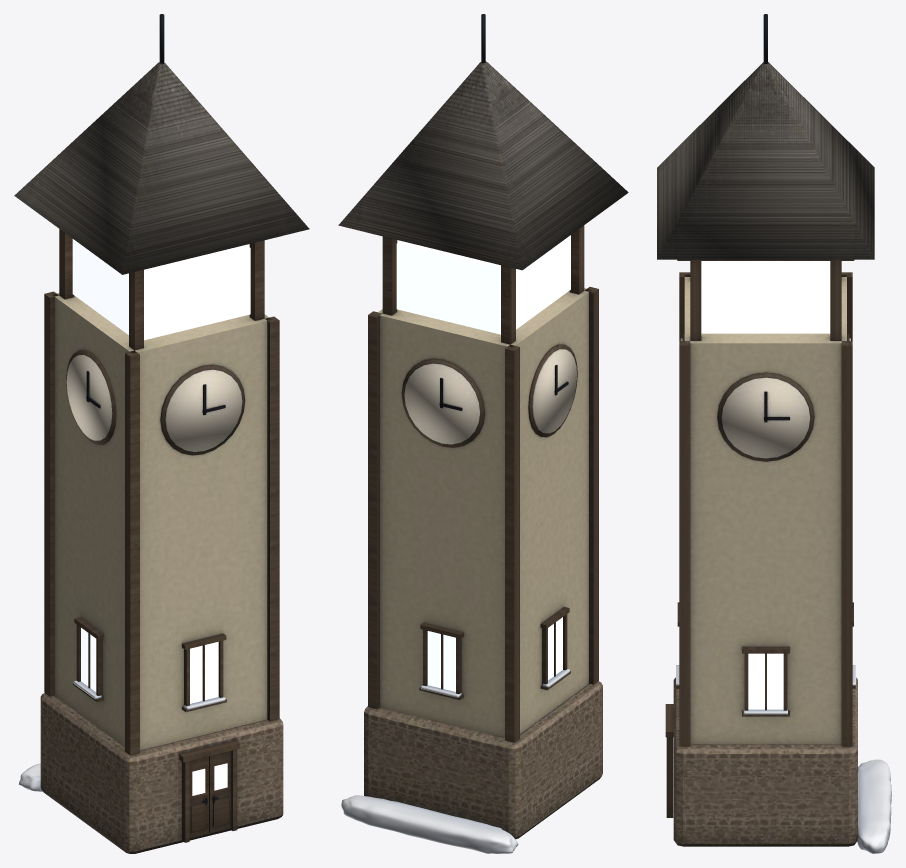
Rendered from solitude_clock_tower.glb.
The picture shows the model from 3 angles, left to right: view 1: azimuth 30°, elevation 25°; view 2: azimuth 150°, elevation 25°; view 3: azimuth 270°, elevation 25°; orthographic projection. The views are drawn at different scales.
Visible parts, largest first — view 1: solitude_clock_tower, solitude_clock_tower_lit, solitude_clock_tower_snow; view 2: solitude_clock_tower, solitude_clock_tower_lit, solitude_clock_tower_snow; view 3: solitude_clock_tower, solitude_clock_tower_lit, solitude_clock_tower_snow.
Boxes of the visible parts, bbox=[...] form: solitude_clock_tower: bbox=[14, 14, 309, 853]; solitude_clock_tower_lit: bbox=[72, 239, 250, 795]; solitude_clock_tower_snow: bbox=[18, 680, 225, 791]; solitude_clock_tower: bbox=[338, 14, 628, 839]; solitude_clock_tower_lit: bbox=[396, 235, 570, 691]; solitude_clock_tower_snow: bbox=[341, 669, 570, 853]; solitude_clock_tower: bbox=[657, 14, 874, 846]; solitude_clock_tower_lit: bbox=[701, 261, 830, 709]; solitude_clock_tower_snow: bbox=[676, 665, 891, 853].
Size of the model in its own units: 5.91 by 24.1 by 6.37.
Materials: 3 (1 with a texture image).
